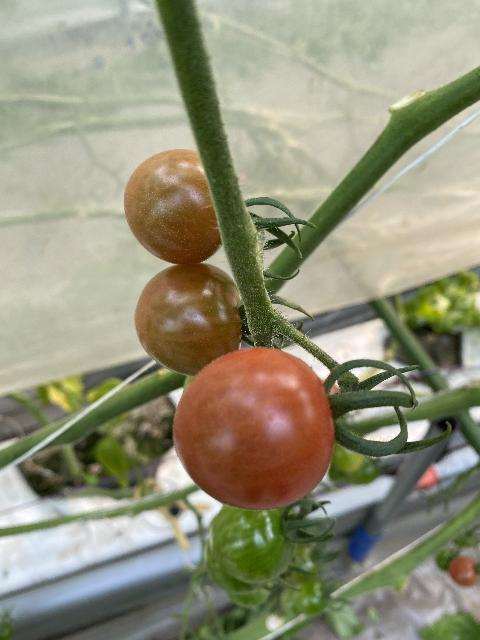l_fully_ripened: (173, 345, 336, 511)
l_green: (211, 503, 298, 584)
l_half_ripened: (134, 264, 242, 376), (123, 150, 224, 265)
